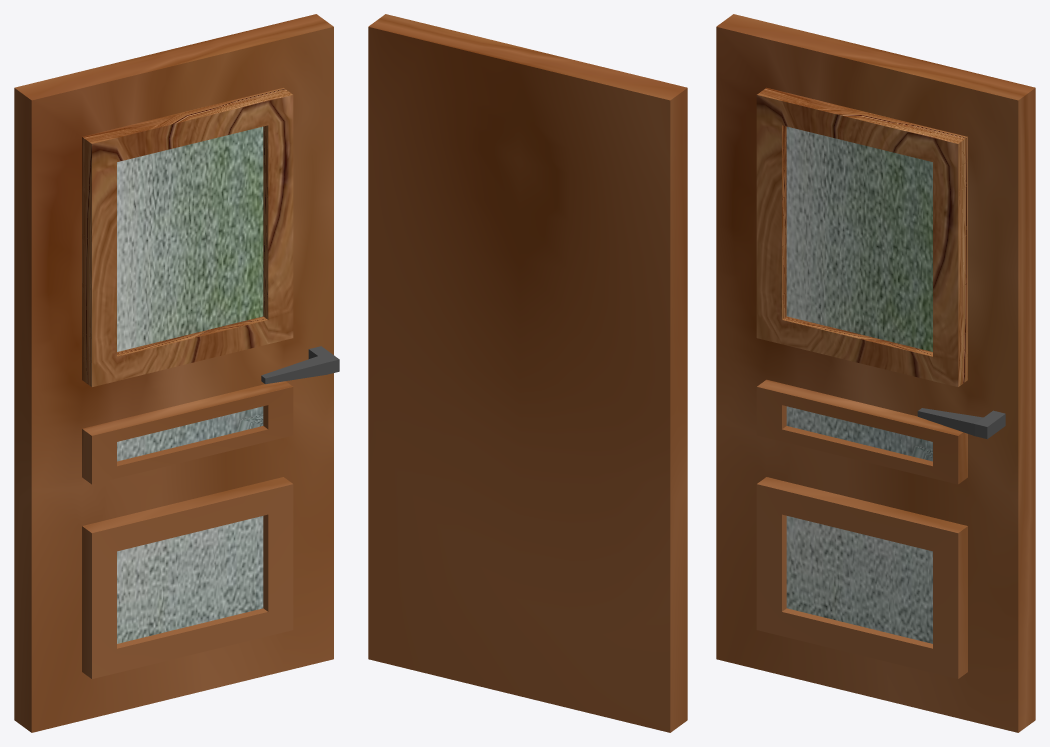
File: Puerta_42.fbx
3 renders of one model, left to right at view 1: azimuth 30°, elevation 25°; view 2: azimuth 150°, elevation 25°; view 3: azimuth 330°, elevation 25°, orthographic.
Parts seen in each view (by area): view 1: Cube.042; view 2: Cube.042; view 3: Cube.042.
Part boxes in pixels (x1,y1,x2,y2): Cube.042: (14,14,339,732); Cube.042: (368,14,687,732); Cube.042: (716,14,1035,732).
Size of the model in its own units: 200 by 400 by 41.01.
